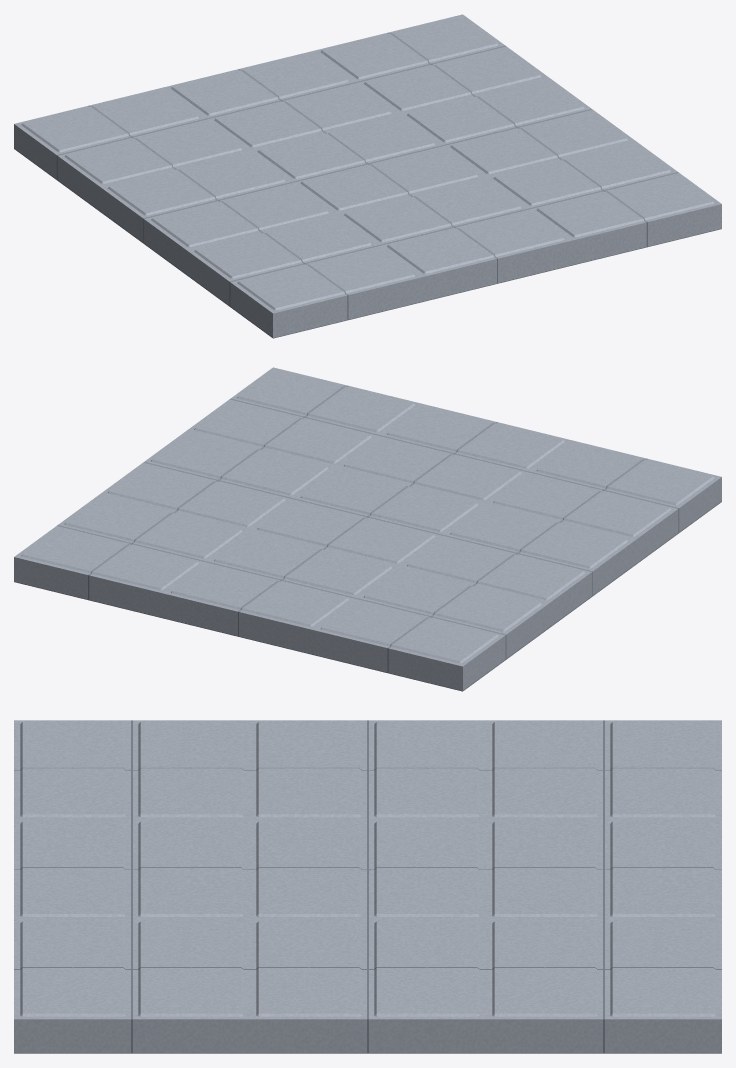
Rendered from Kit_Steel_Floor.fbx.
3 renders of one model, top to bottom at view 1: azimuth 30°, elevation 25°; view 2: azimuth 150°, elevation 25°; view 3: azimuth 270°, elevation 25°, orthographic. The views are drawn at different scales.
Parts seen in each view (by area): view 1: Kit_Steel_Floor_LOD0; view 2: Kit_Steel_Floor_LOD0; view 3: Kit_Steel_Floor_LOD0.
Boxes of the visible parts, bbox=[...] form: Kit_Steel_Floor_LOD0: bbox=[14, 14, 721, 338]; Kit_Steel_Floor_LOD0: bbox=[14, 367, 721, 691]; Kit_Steel_Floor_LOD0: bbox=[14, 720, 721, 1053].
Size of what is drawn, in the model's own units: 3 by 0.18 by 3.
